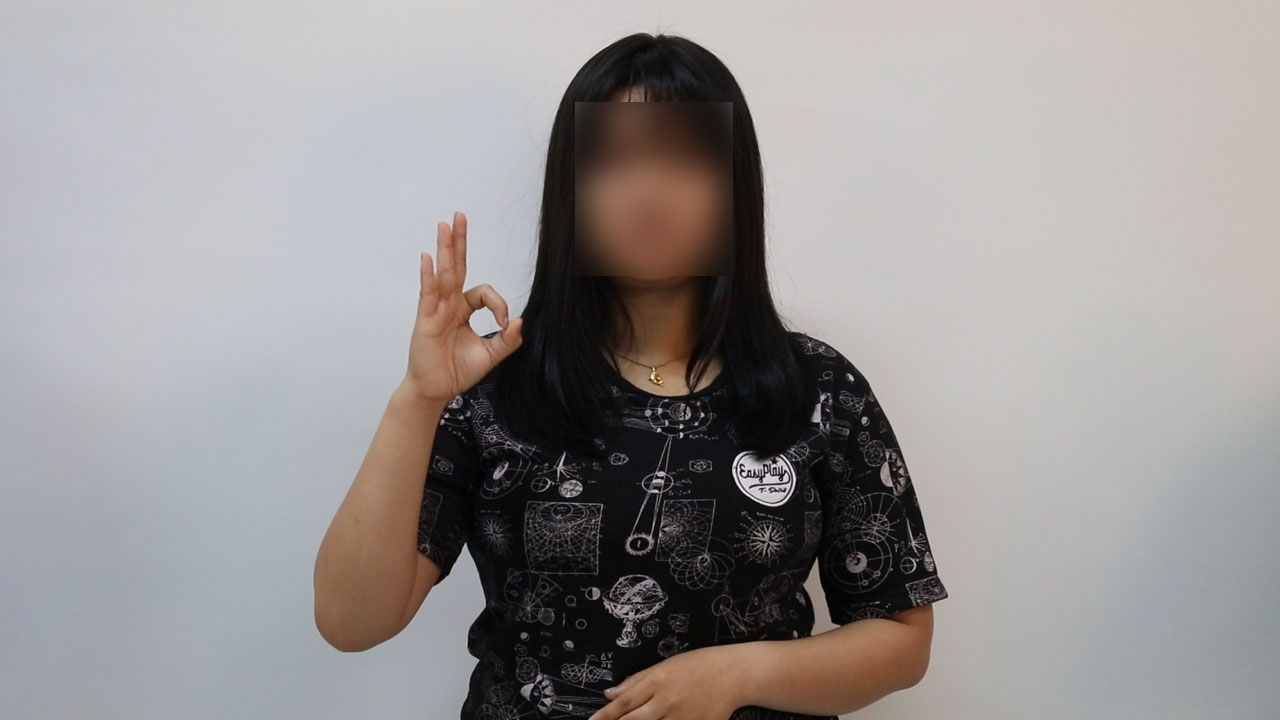for: (377, 201, 530, 416)
